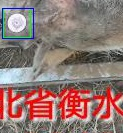text: (3, 8, 30, 37)
